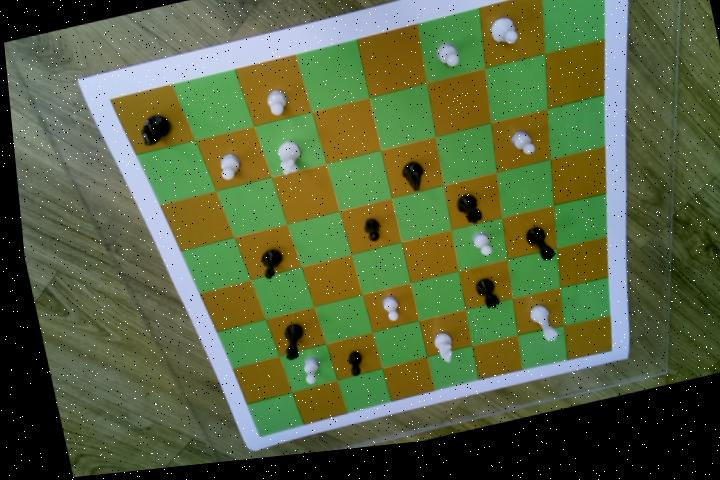chessboard-detect: (106, 0, 605, 443)
